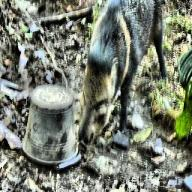boar: (76, 0, 168, 147)
